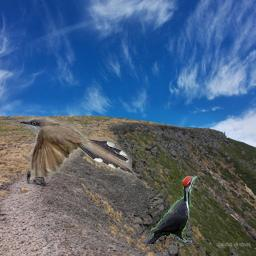Cuckoo: (19, 117, 132, 177)
Woodpecker: (145, 175, 198, 244)
